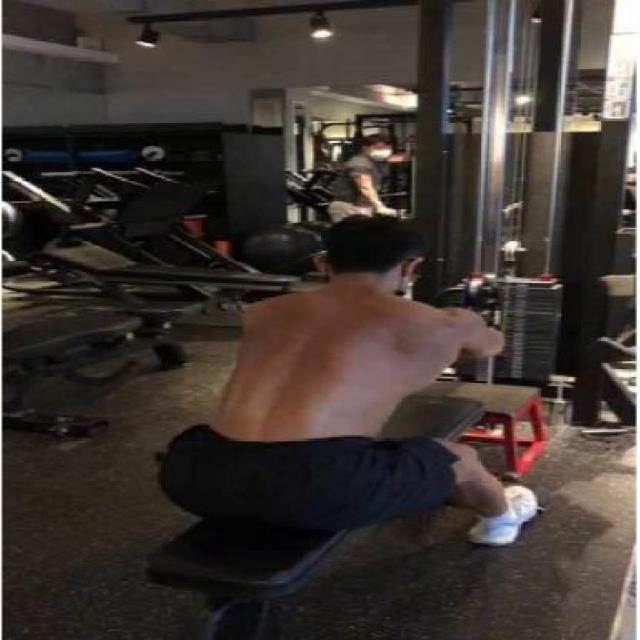Seated Cable Rows: (18, 4, 638, 640)
